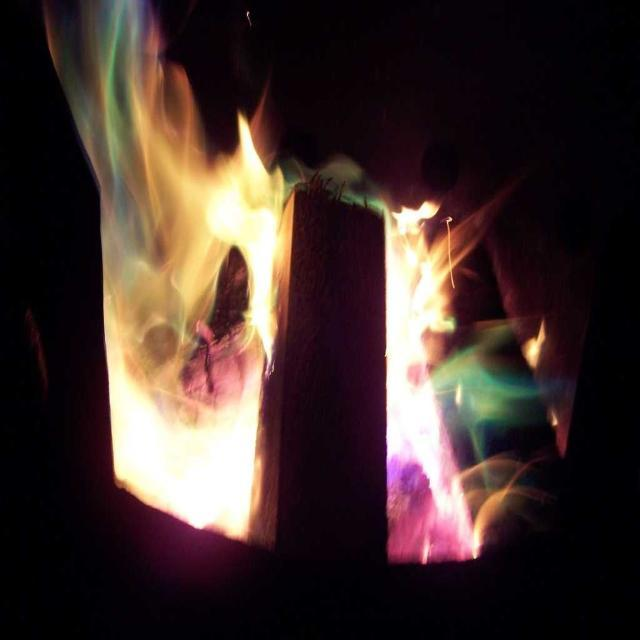Fire: (85, 103, 278, 543), (390, 212, 496, 576)
